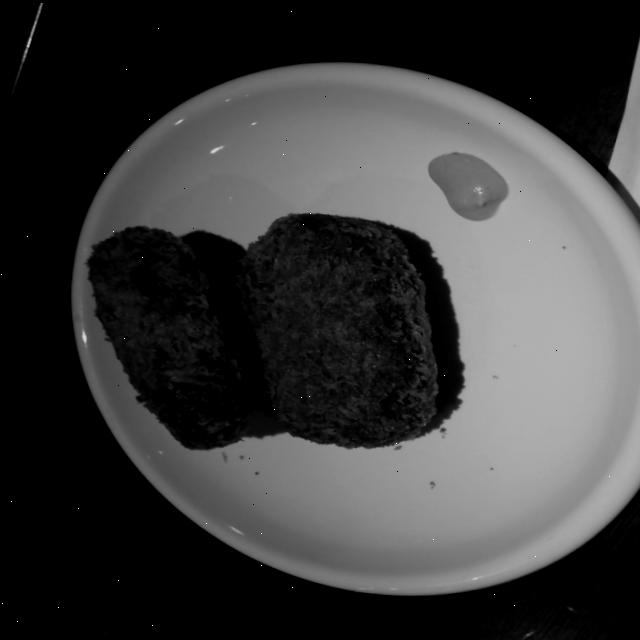炸货点心: (77, 204, 454, 463)
